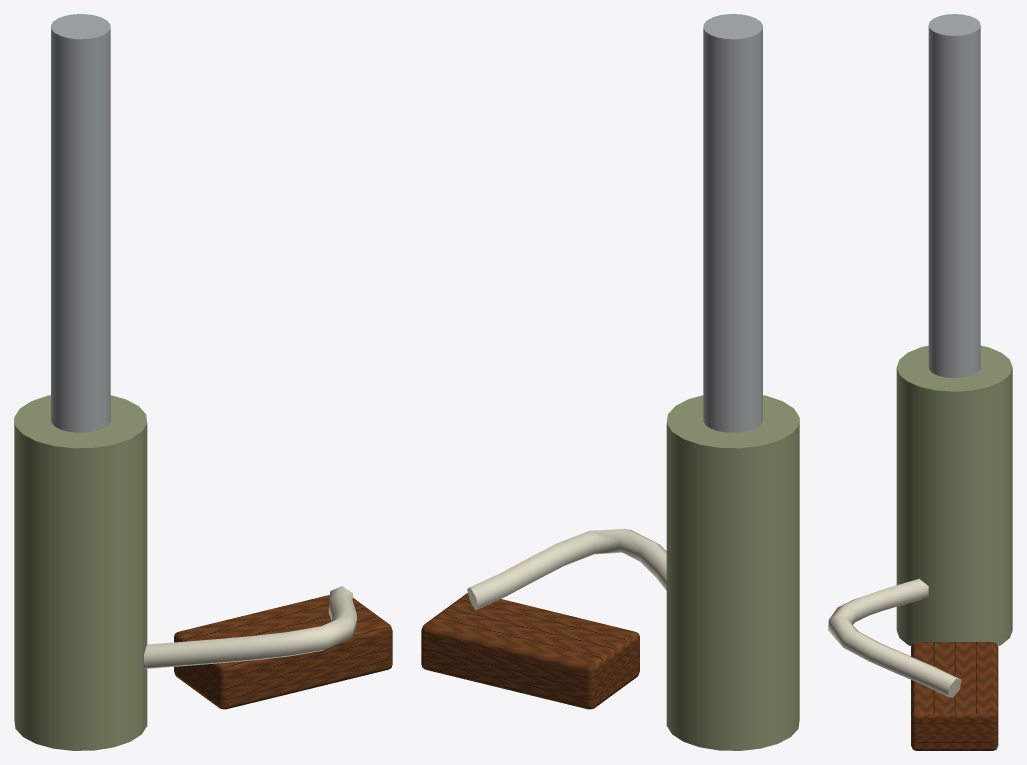
File: wilderness-survival-camp-firesteel-striker-72c7428a__21958.glb
3 views of the same model, side by side, from view 1: azimuth 30°, elevation 25°; view 2: azimuth 150°, elevation 25°; view 3: azimuth 270°, elevation 25° (orthographic). The views are drawn at different scales.
Parts seen in each view (by area): view 1: firesteel-striker; view 2: firesteel-striker; view 3: firesteel-striker.
Part boxes in pixels (box(x1,y1,x2,y2)): firesteel-striker: box(14, 14, 392, 750); firesteel-striker: box(421, 14, 799, 750); firesteel-striker: box(828, 14, 1012, 750).
Size of the model in its own units: 0.12 by 0.23 by 0.0635.
Materials: 4 (1 with a texture image).
